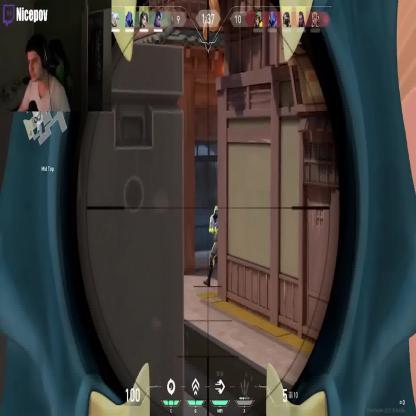enemy: (204, 205, 231, 286)
enemy_head: (214, 206, 219, 218)
